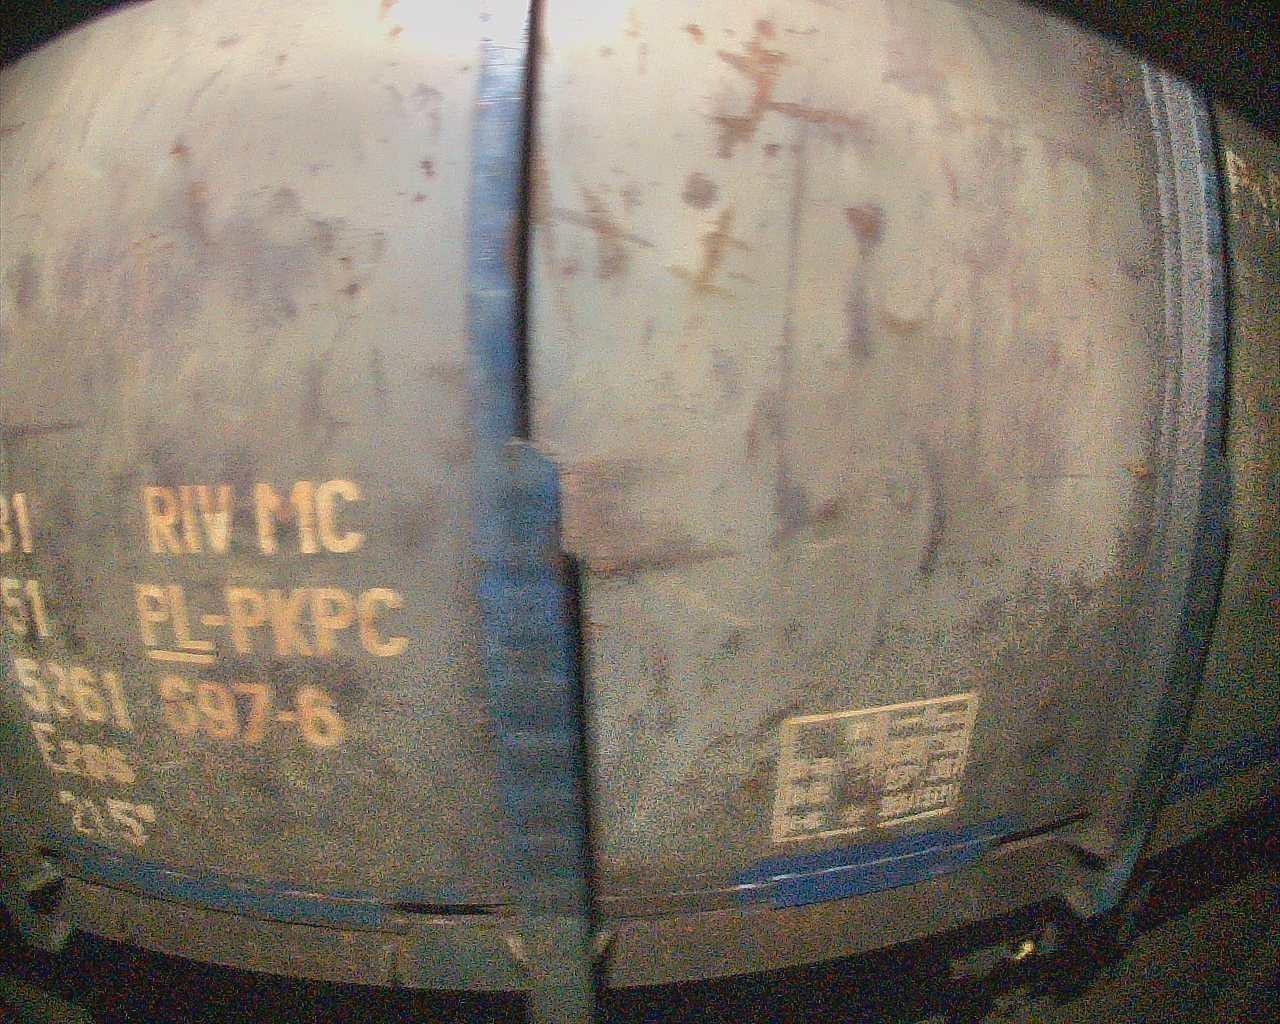UIC: (1, 475, 416, 852)
